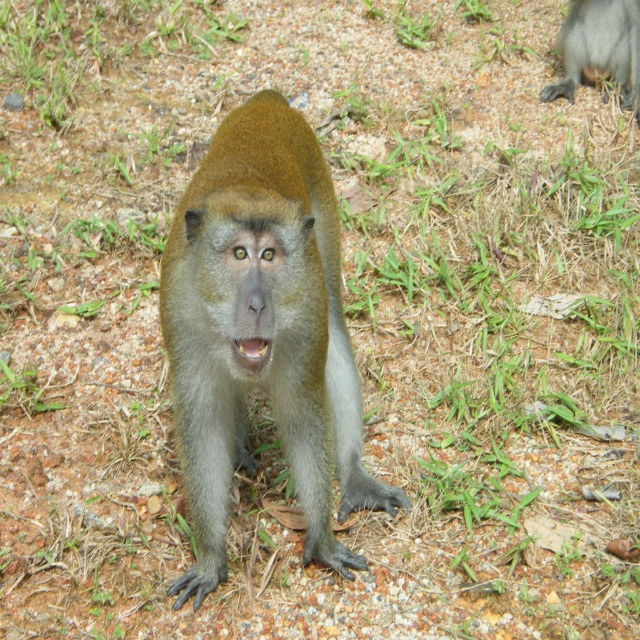Monkey: (161, 89, 413, 610)
